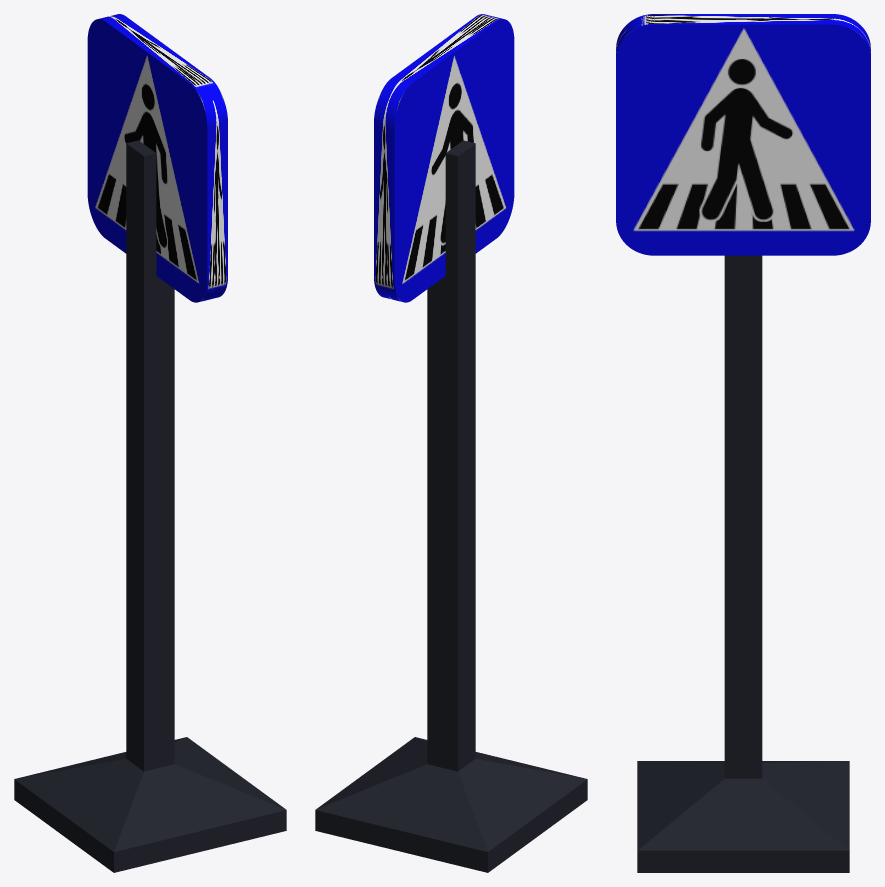
Rendered from crosswalk.obj.
The picture shows the model from 3 angles, left to right: view 1: azimuth 30°, elevation 25°; view 2: azimuth 150°, elevation 25°; view 3: azimuth 270°, elevation 25°; orthographic projection. The views are drawn at different scales.
Visible parts, largest first — view 1: beam, Cube; view 2: beam, Cube; view 3: Cube, beam.
Part boxes in pixels (bbox=[...]): beam: bbox=[14, 140, 286, 872]; Cube: bbox=[87, 14, 227, 302]; beam: bbox=[315, 140, 587, 872]; Cube: bbox=[374, 14, 514, 302]; Cube: bbox=[616, 14, 870, 255]; beam: bbox=[637, 255, 849, 872].
Bounding box in the file's own units: 0.05 × 0.2111 × 0.06.
2 materials, 1 textured.
